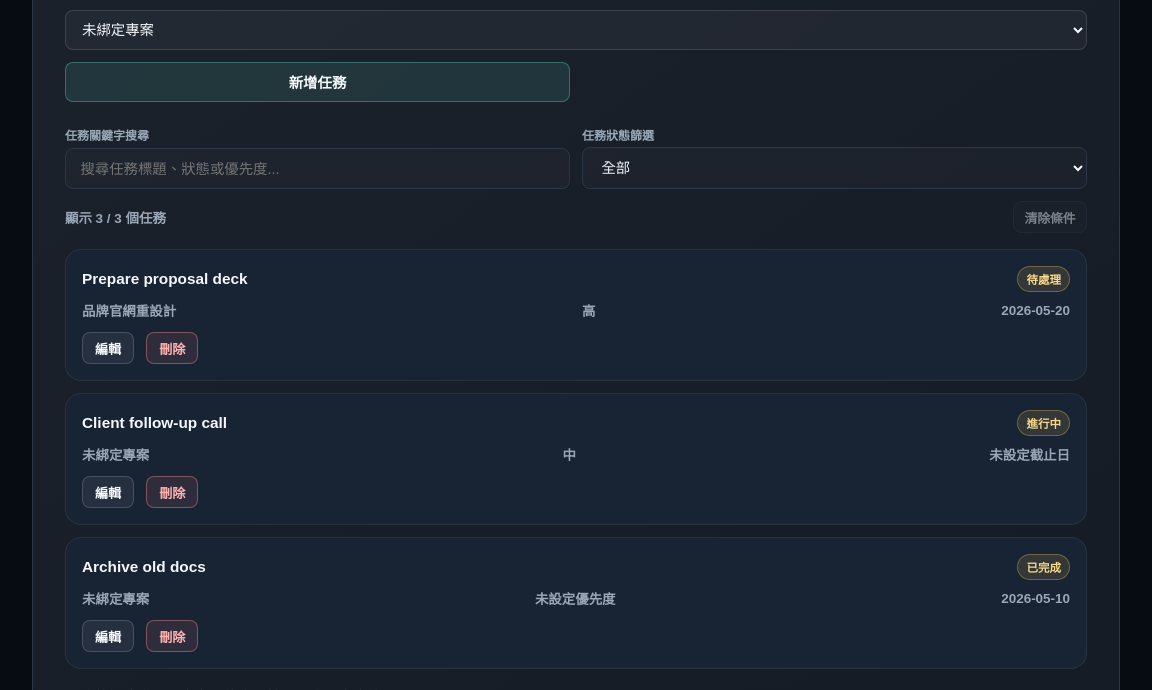
Test: TasksPage Supabase integration behaviors › deletes the selected task only
(page scrolled)
Expected: the number of elements with test id "tasks-status-badge" is 3, top-left (1018, 266), bottom-right (1070, 292); top-left (1018, 410), bottom-right (1070, 436); top-left (1018, 554), bottom-right (1070, 580)
Click the button with test id "tasks-delete-button" below "品牌官網重設計" at (172, 348), box top-left (146, 332), bottom-right (198, 364)
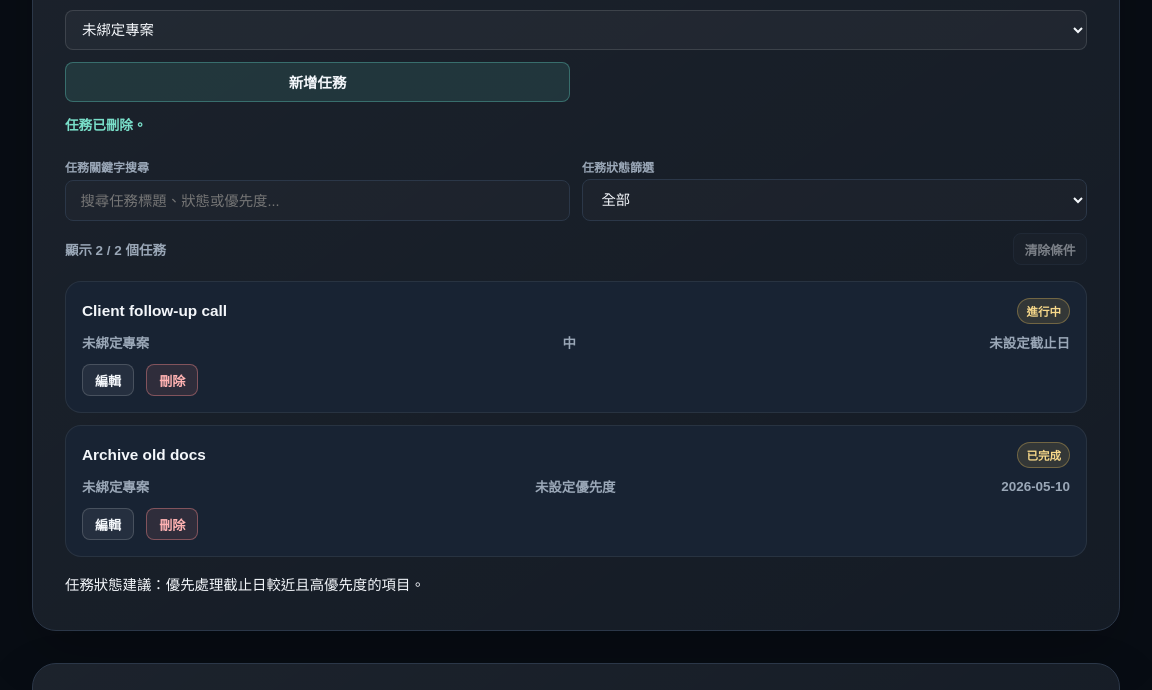
Expected: the heading "Client follow-up call" is shown, top-left (82, 302), bottom-right (227, 320)
Expected: the text with test id "tasks-result-count" shows "2 / 2", top-left (65, 239), bottom-right (166, 259)
Expected: the heading "Prepare proposal deck" is gone
